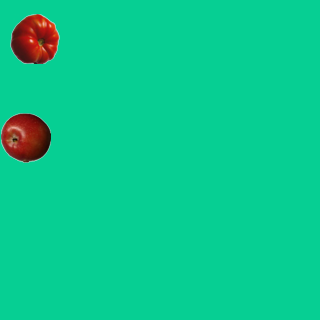Apple Braeburn: (0, 112, 50, 162)
Tomato 3: (9, 13, 59, 63)
